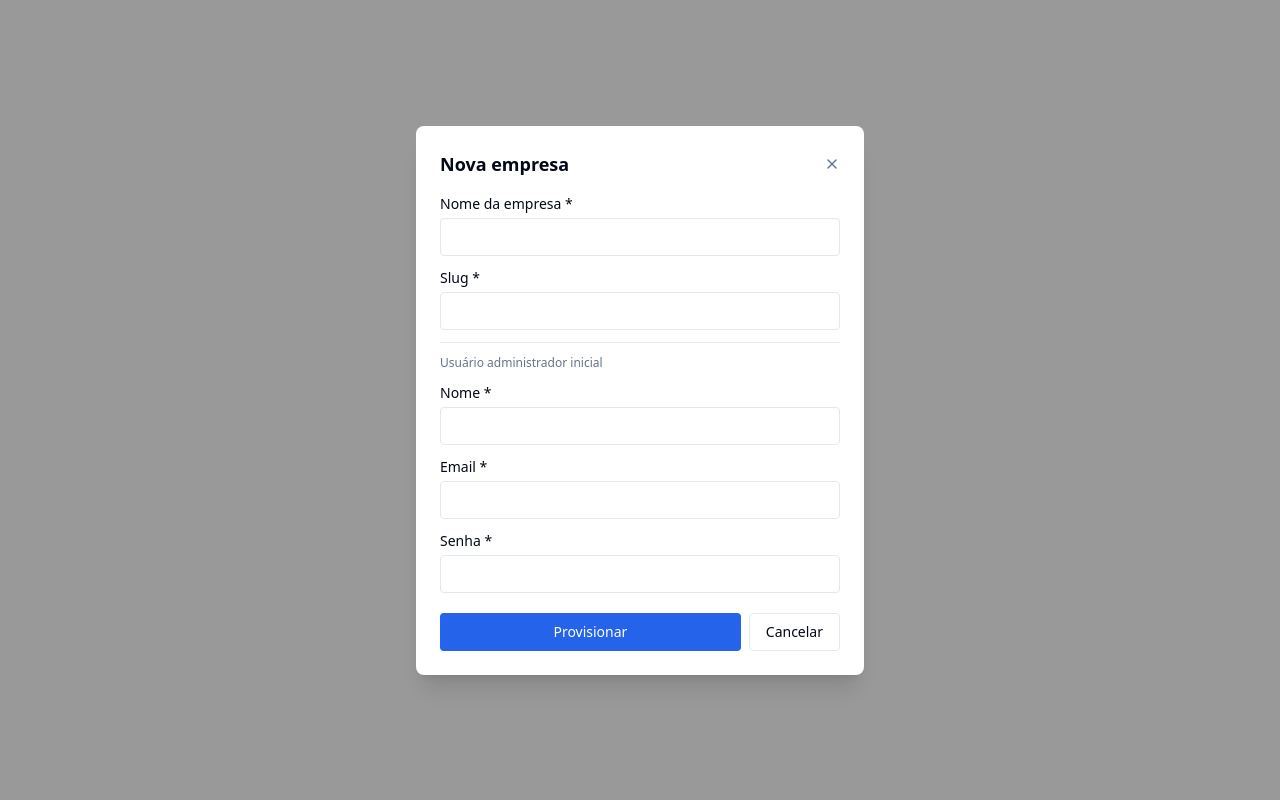
CompanyProvisionModal › exibe mensagem de erro quando provision falha
Type "Dup Corp" into the field below "Nome da empresa *". click: (640, 236)
box: x1=440 y1=218 x2=840 y2=256
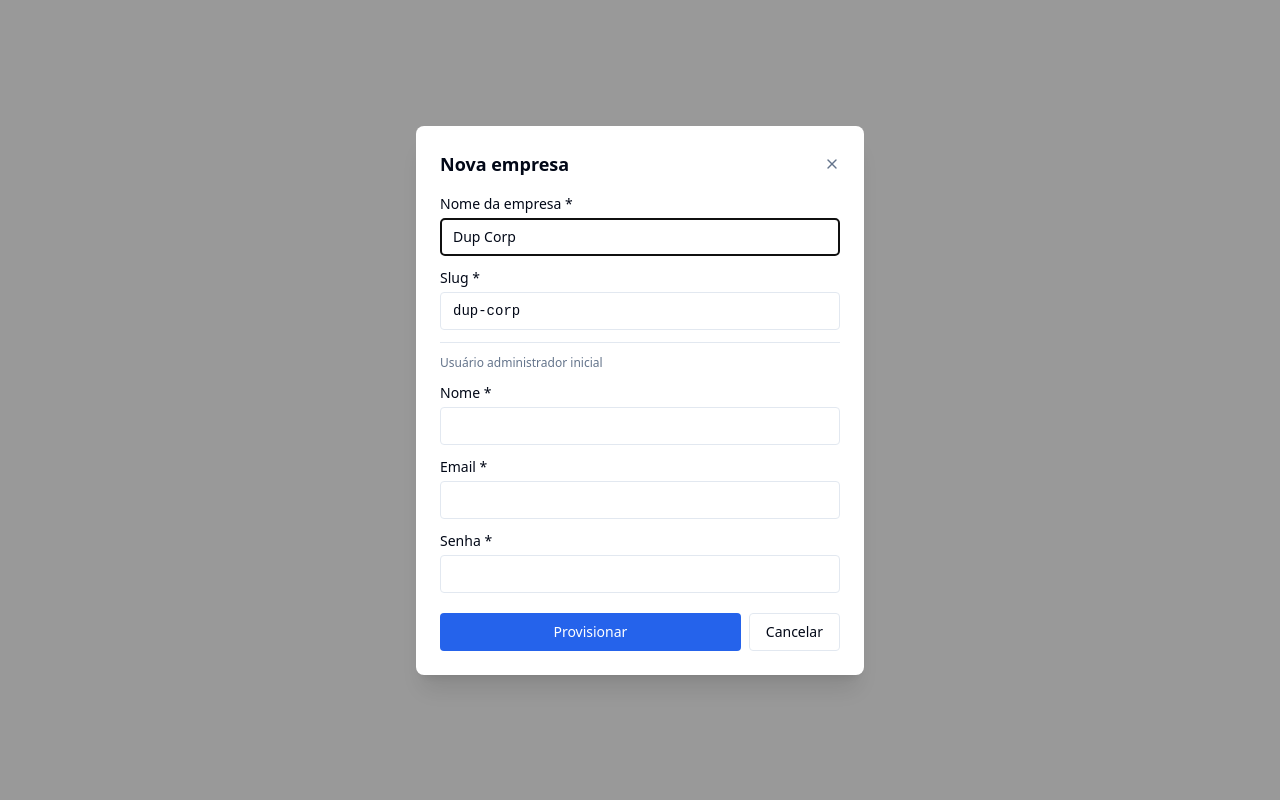
Type "Admin" into the field below "Nome *". click: (640, 426)
box: x1=440 y1=406 x2=840 y2=444
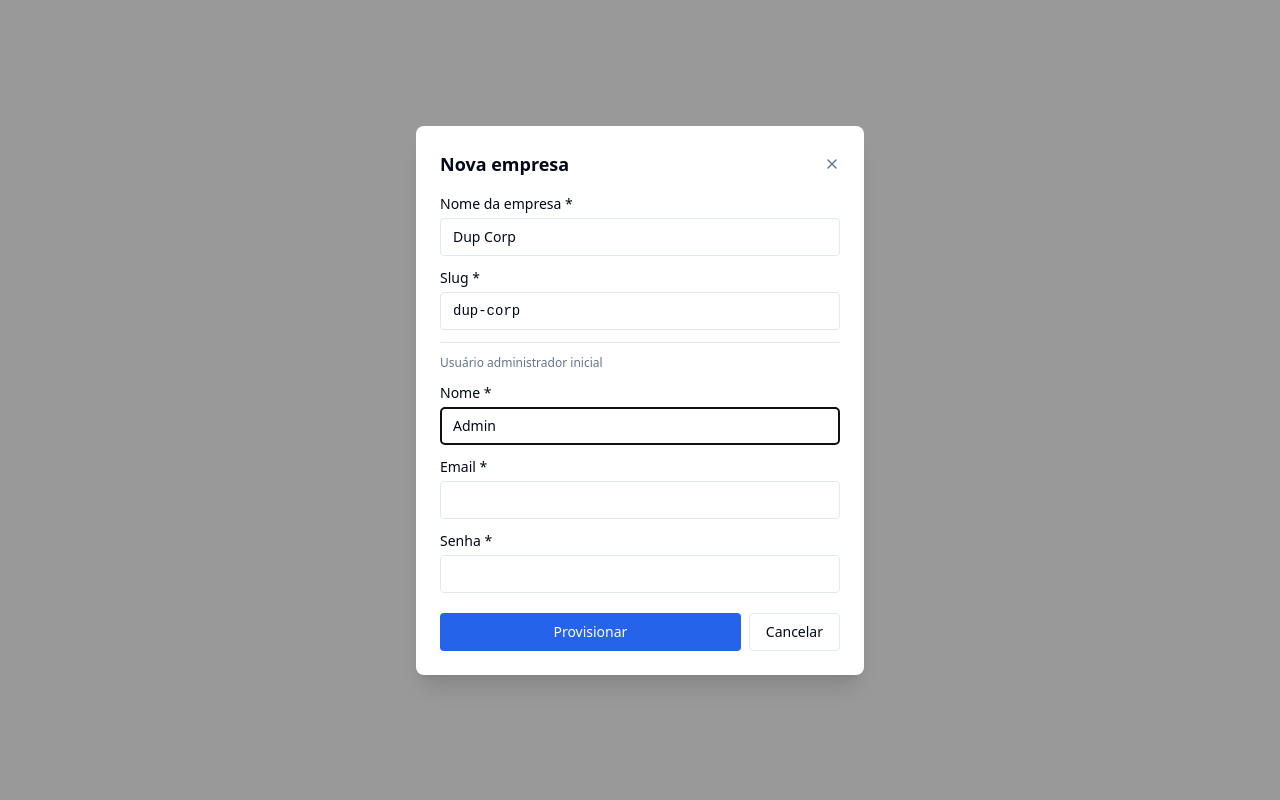
Type "a@b.com" into the field below "Email *". click: (640, 500)
box: x1=440 y1=480 x2=840 y2=518
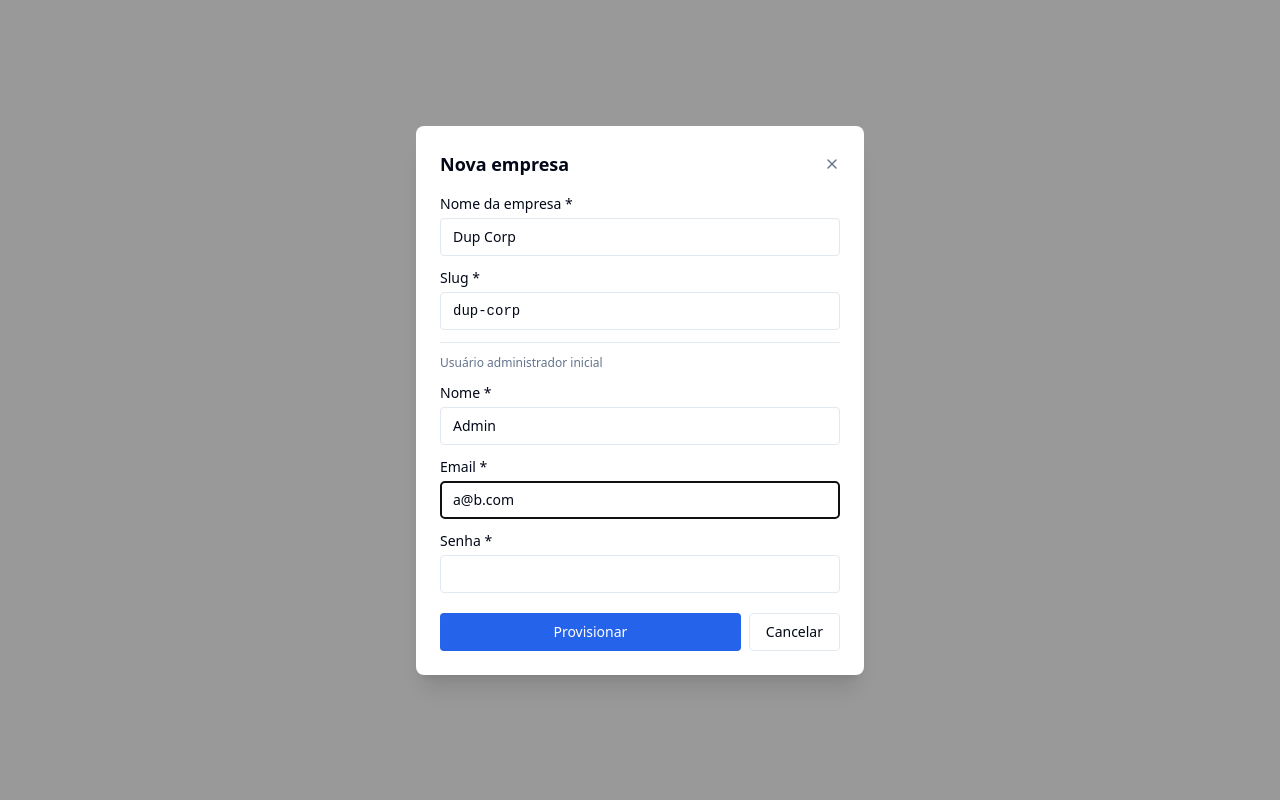
Type "securepass123" into the password field. click: (640, 574)
box: x1=440 y1=554 x2=840 y2=592
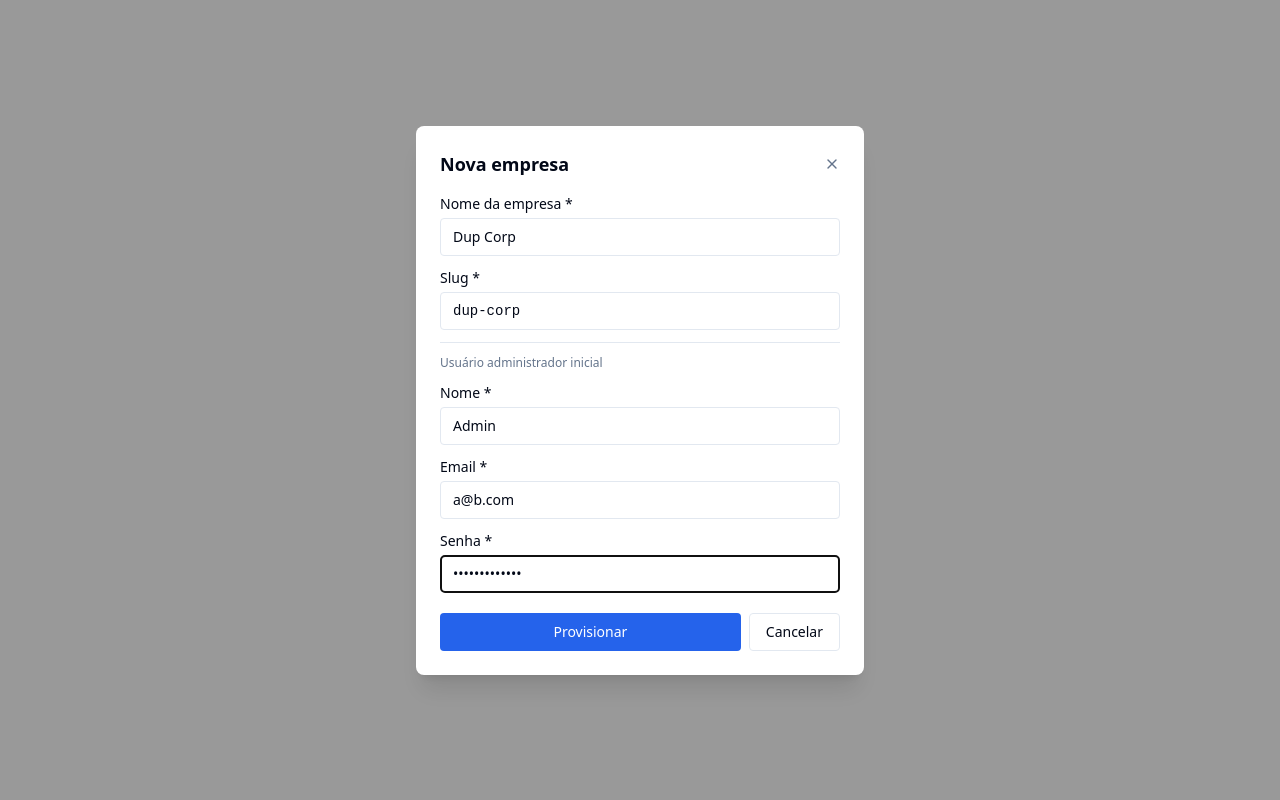
Click the button "Provisionar". click: (590, 632)
box: x1=440 y1=612 x2=741 y2=650
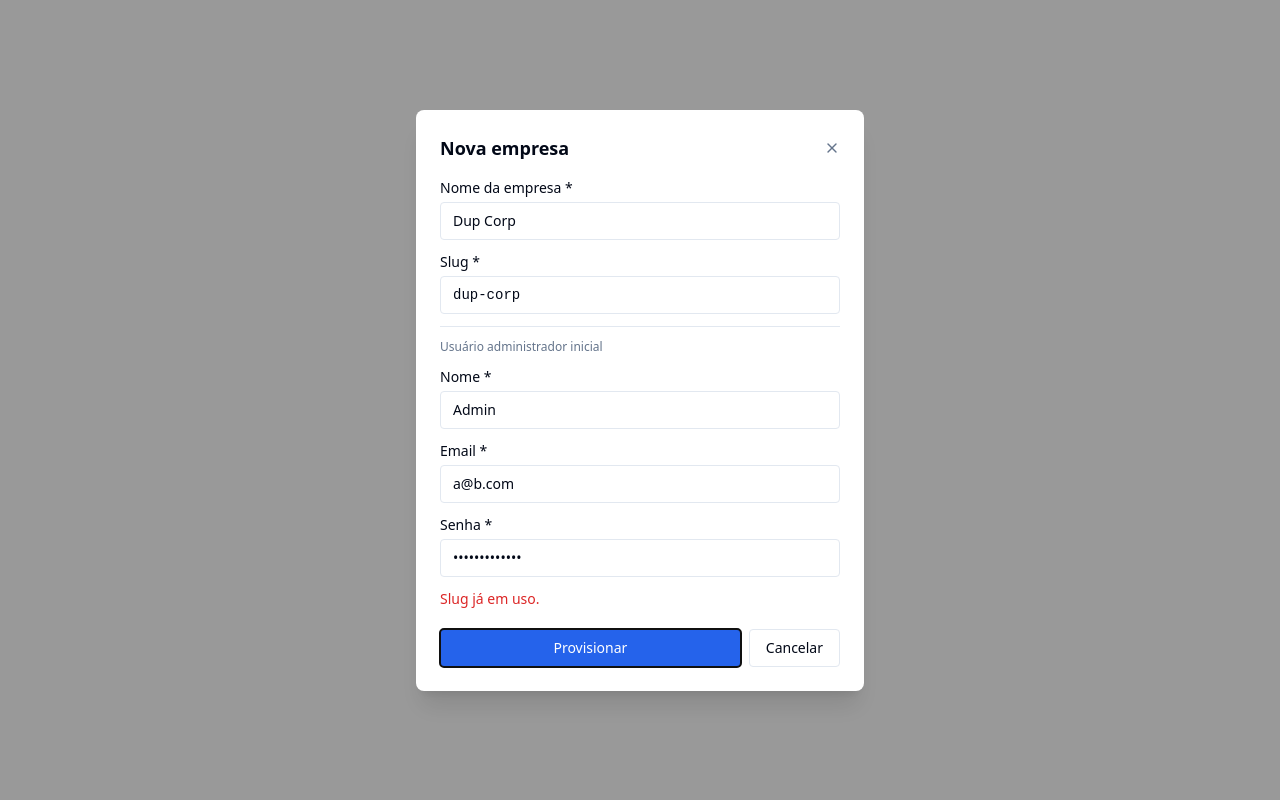
Expected: the text "Slug já em uso." is shown, x1=440 y1=588 x2=540 y2=608
